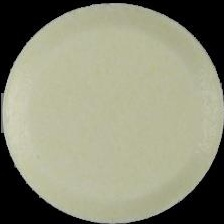0378-0028: (0, 0, 224, 224)
